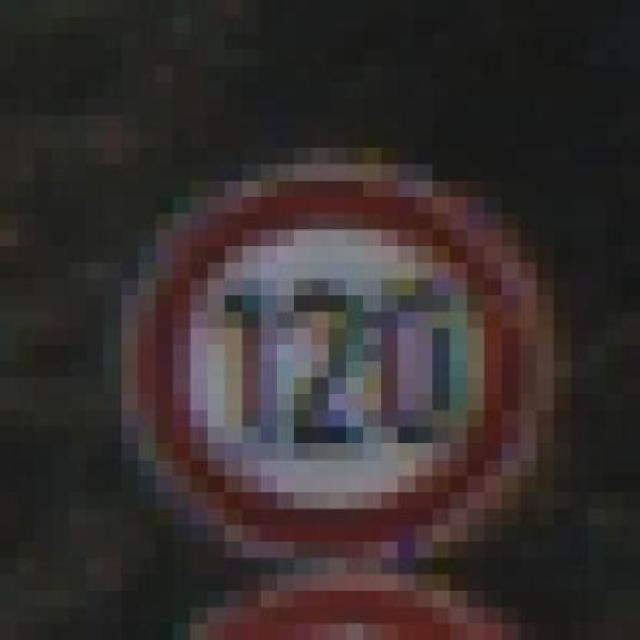forb_speed_over_120: (132, 175, 530, 552)
